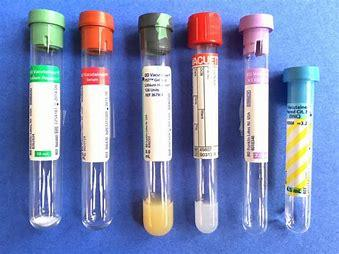Test tube: (19, 5, 73, 228), (133, 6, 180, 228), (233, 8, 275, 230), (80, 7, 120, 229), (191, 5, 223, 236), (283, 51, 312, 234)
